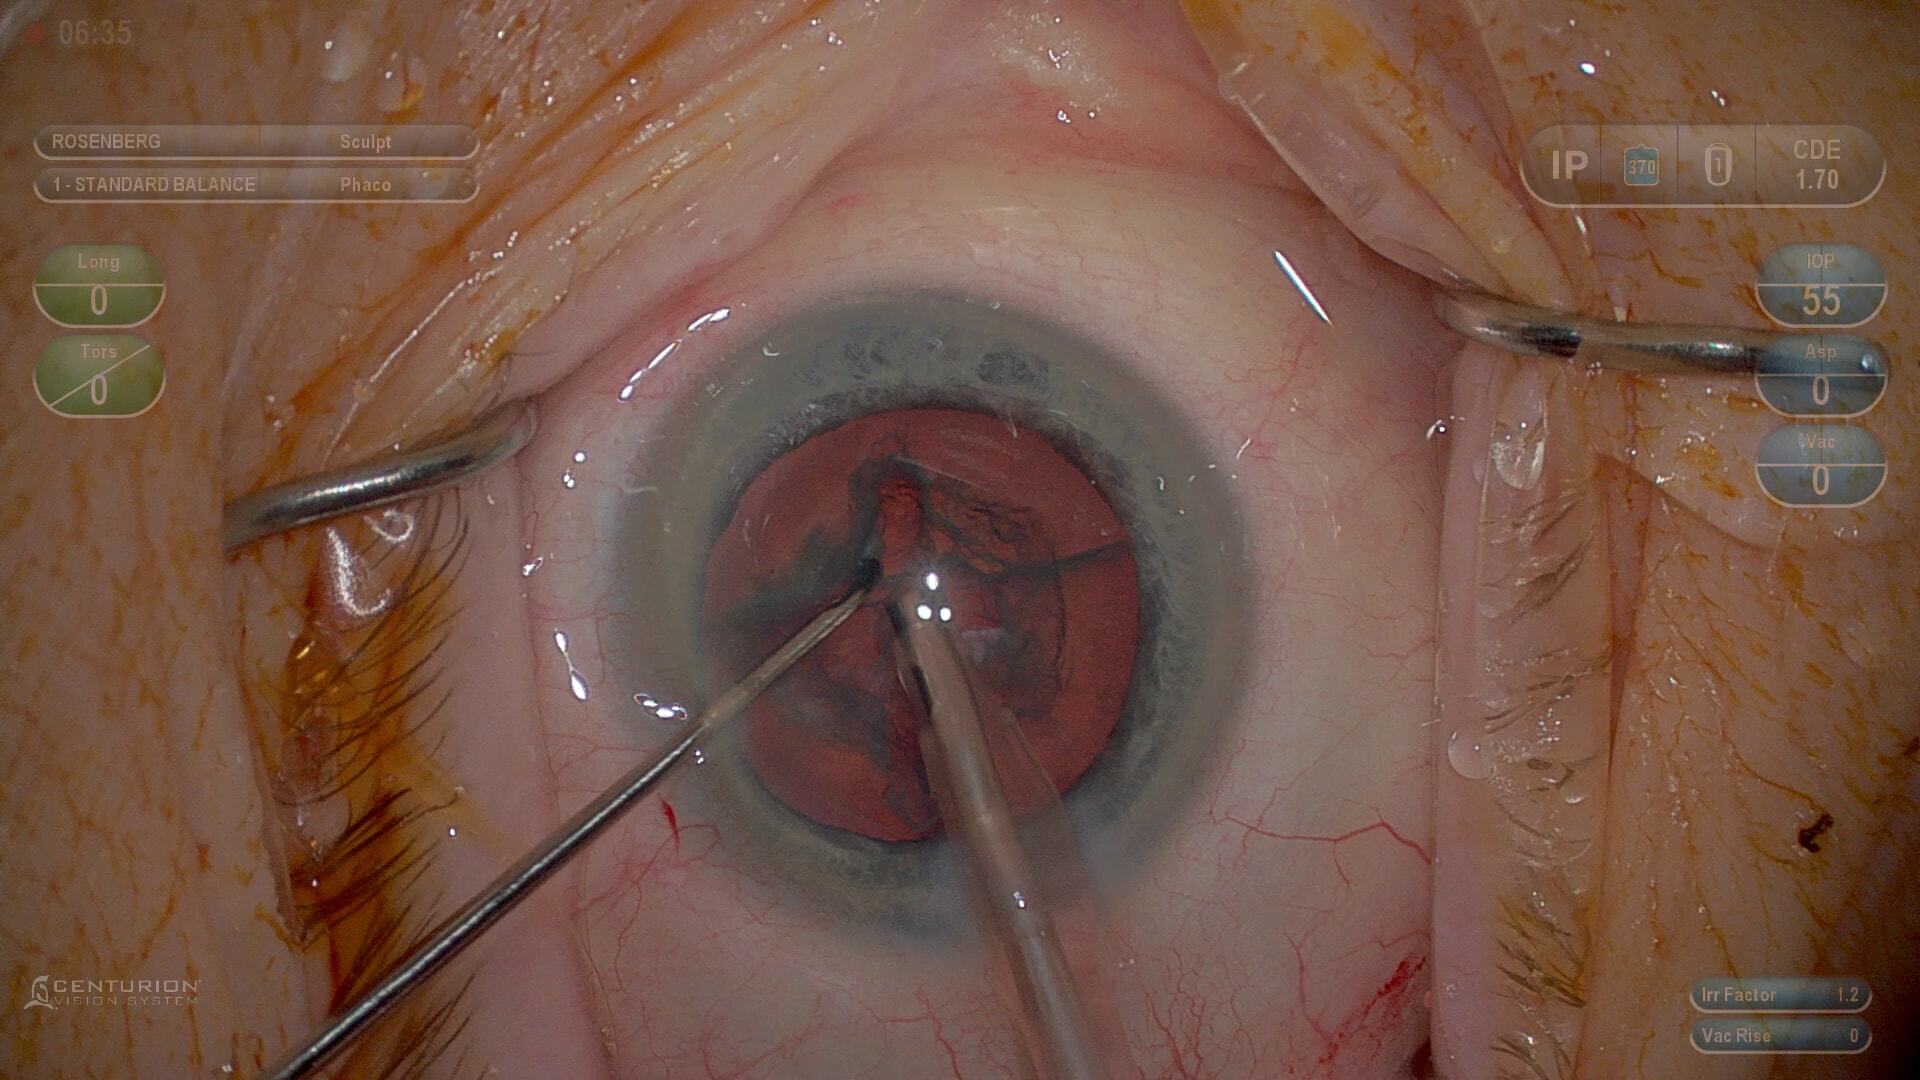iris: (635, 297, 1237, 931)
pupil: (693, 400, 1147, 844)
